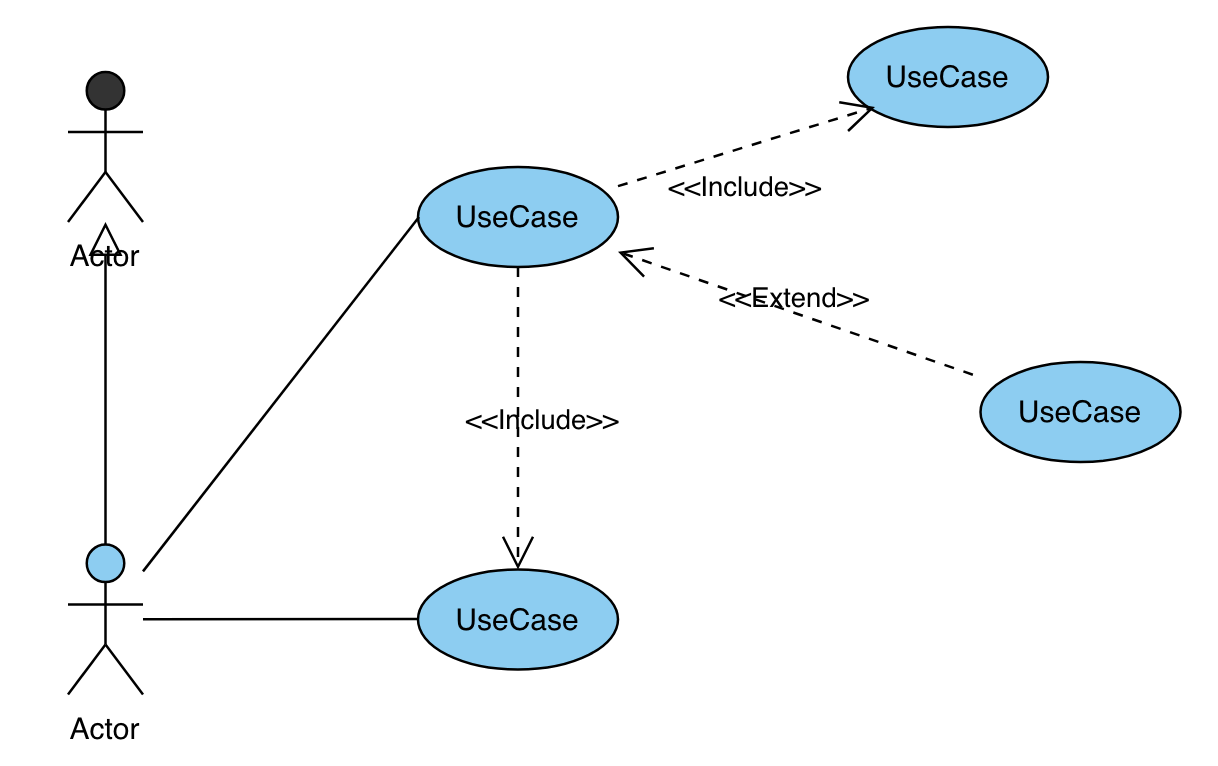actor: (58, 540, 149, 707), (61, 65, 147, 229)
association: (144, 219, 415, 573), (617, 244, 978, 379), (617, 98, 877, 188), (499, 266, 539, 567), (143, 604, 415, 631)
generalization: (87, 224, 127, 536)
text: (875, 55, 1023, 98), (465, 401, 623, 439), (454, 598, 592, 641), (1013, 388, 1154, 430), (713, 283, 876, 318), (451, 195, 585, 237), (667, 174, 833, 206), (66, 715, 149, 747), (69, 240, 145, 271)
use_case: (413, 565, 622, 674), (414, 164, 622, 273), (975, 359, 1184, 466), (843, 24, 1053, 130)
